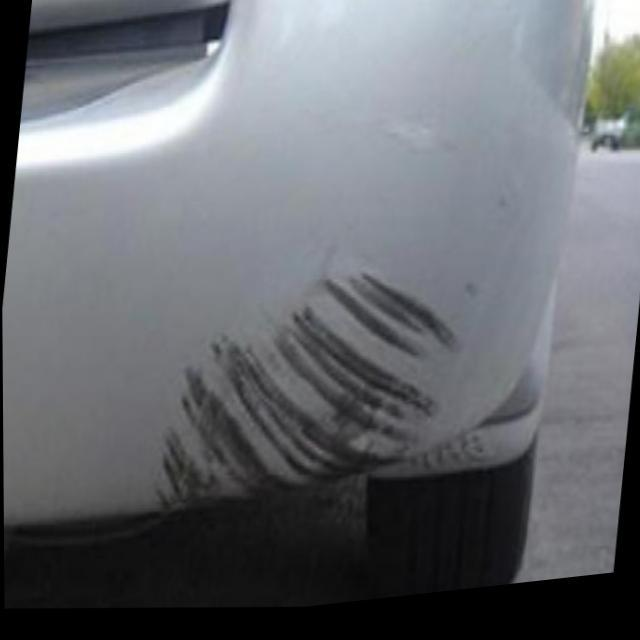rub: (152, 272, 456, 504)
